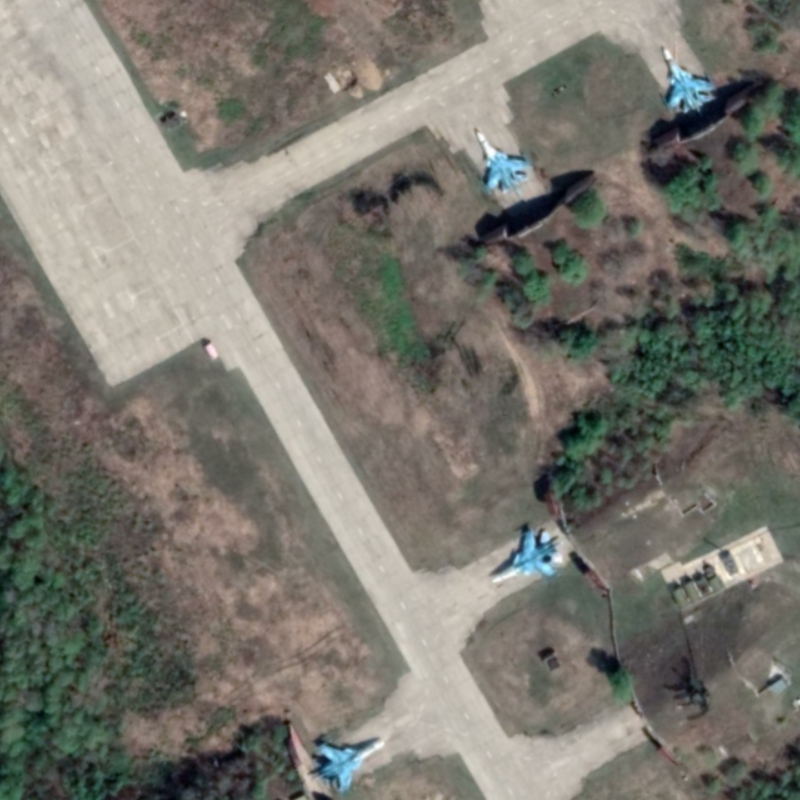A19: (310, 737, 386, 796), (489, 527, 564, 585), (660, 46, 717, 118), (474, 129, 534, 196)
